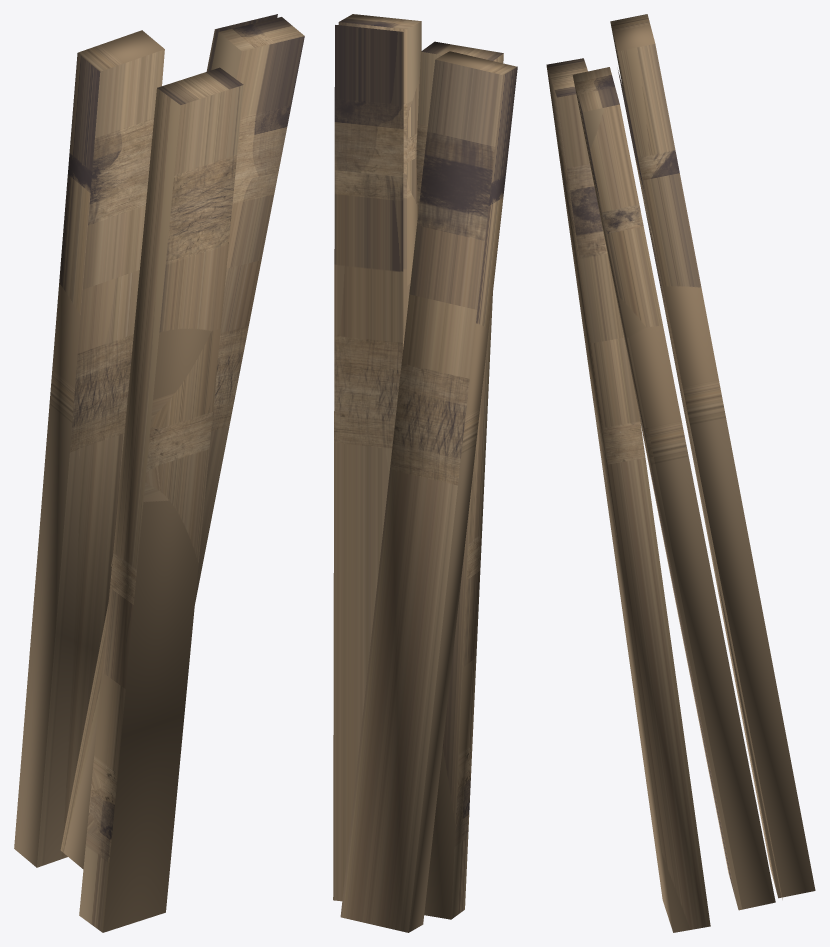
Rendered from Planks2.fbx.
The picture shows the model from 3 angles, left to right: view 1: azimuth 30°, elevation 25°; view 2: azimuth 150°, elevation 25°; view 3: azimuth 270°, elevation 25°; orthographic projection. The views are drawn at different scales.
Visible parts, largest first — view 1: Planks; view 2: Planks; view 3: Planks.
Boxes of the visible parts, <box> form: Planks: <box>14,14,304,932</box>; Planks: <box>333,14,517,932</box>; Planks: <box>546,14,815,932</box>.
Bounding box in the file's own units: 0.6347 × 2.81 × 0.7829.
Materials: 1 (1 with a texture image).
